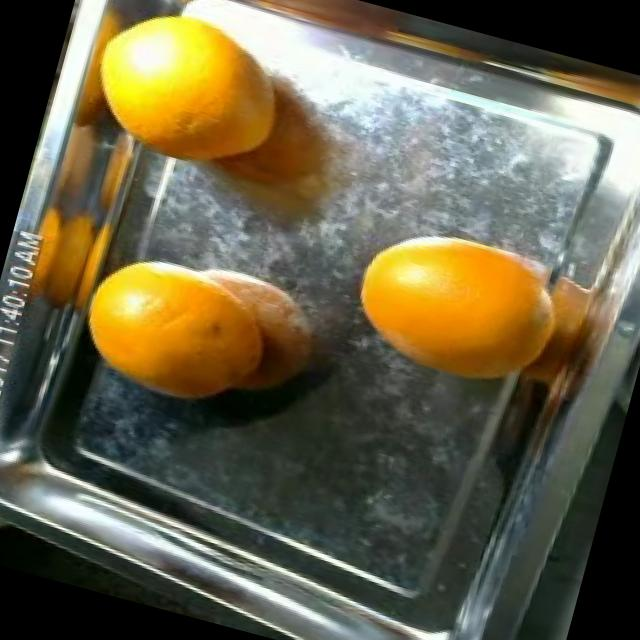Fruit: (50, 220, 314, 445), (323, 196, 565, 410), (64, 0, 311, 199)
